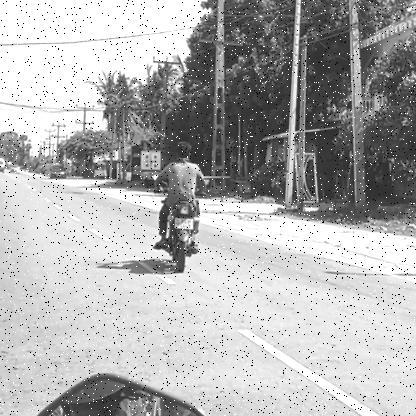motorcycle: (150, 198, 206, 277)
